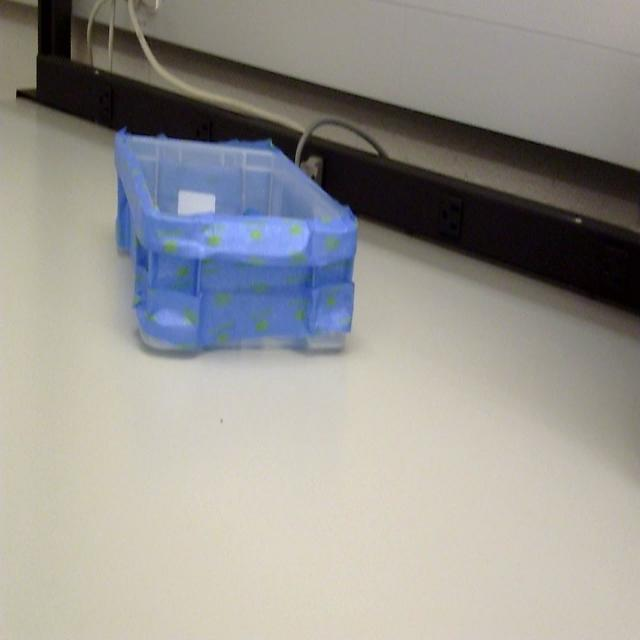bucket: (114, 132, 358, 360)
